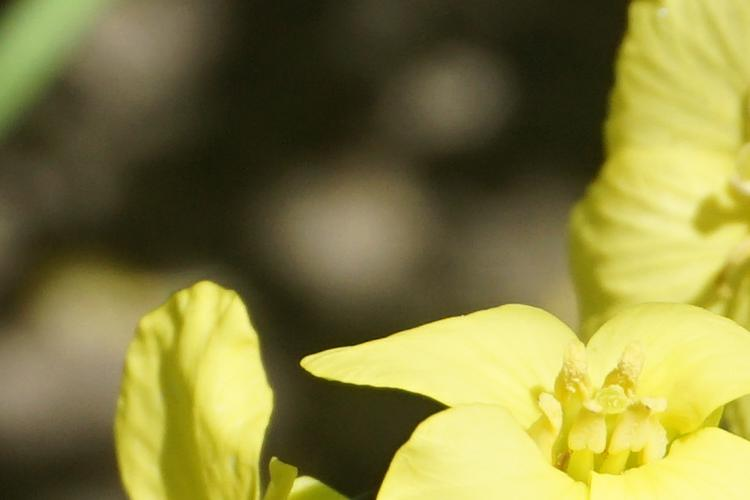yellow: (353, 301, 750, 497), (576, 15, 750, 327), (118, 283, 293, 495)
